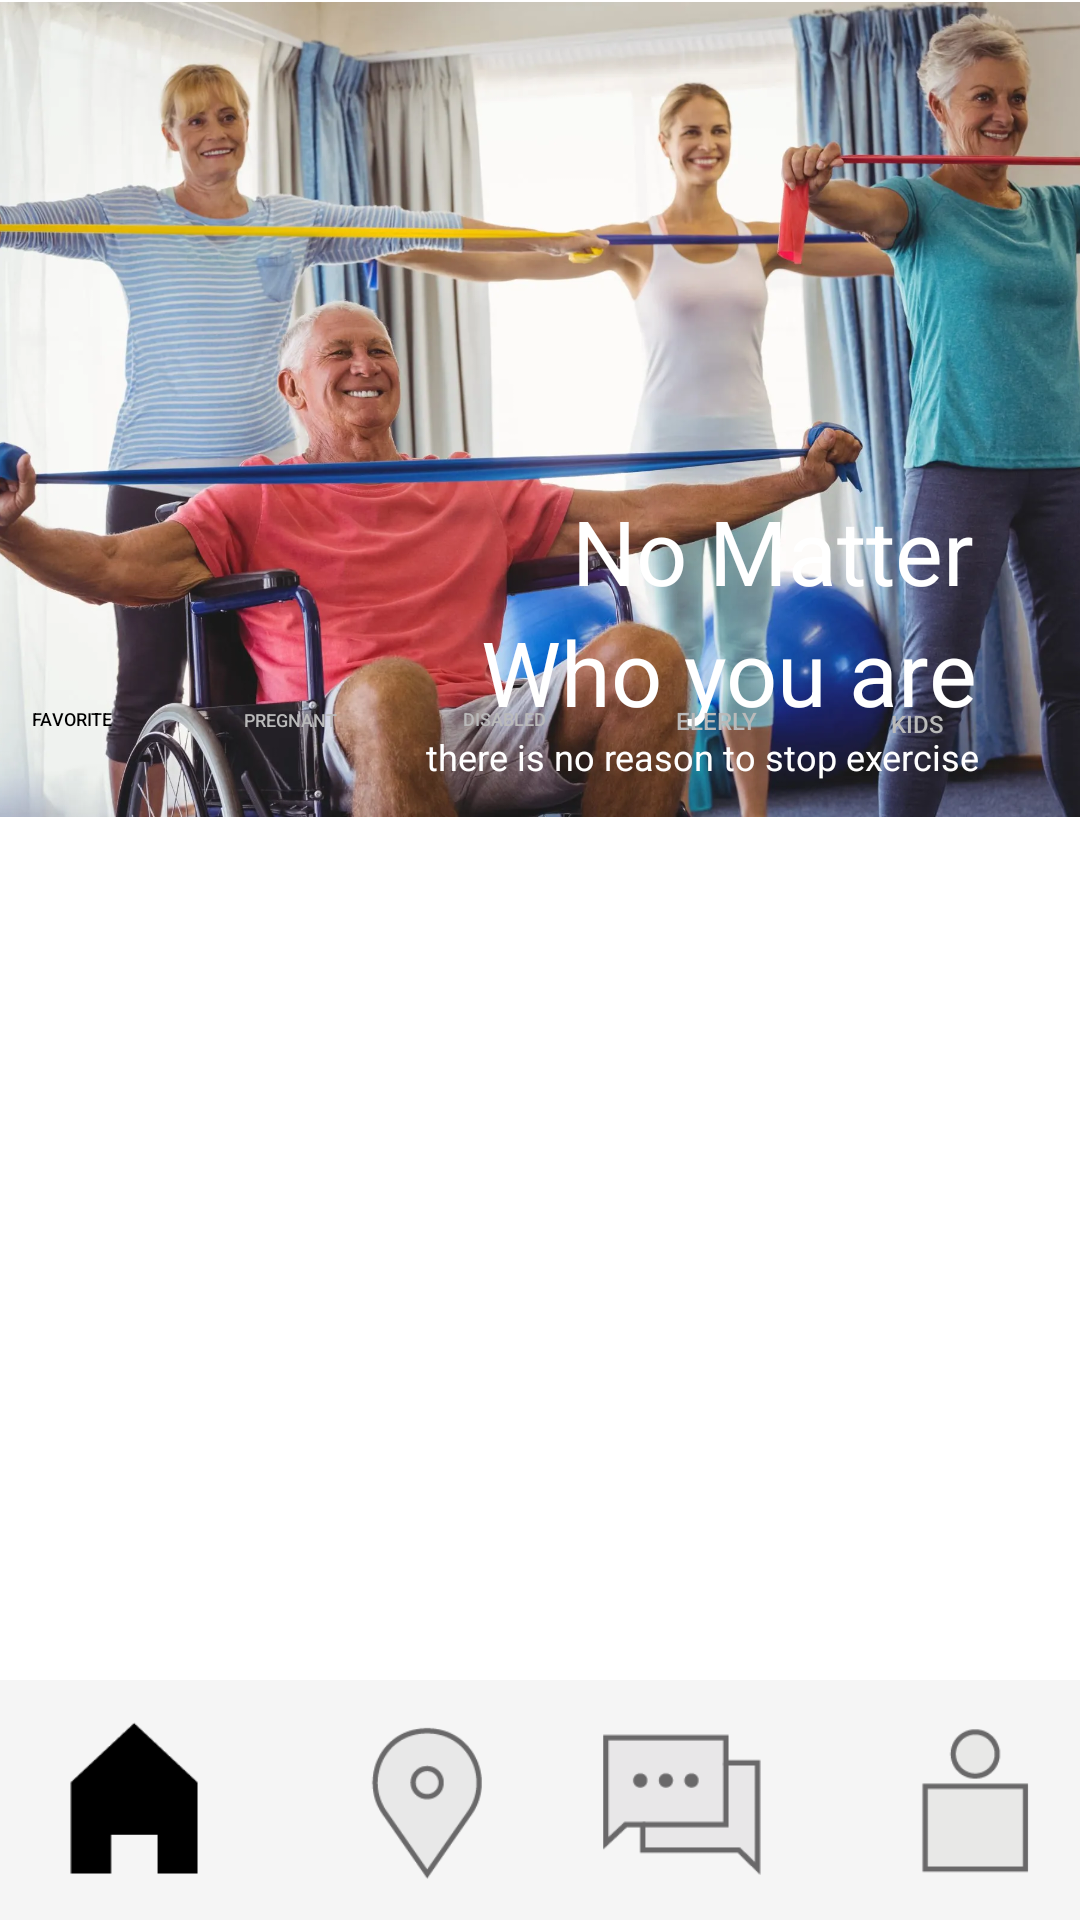

Where icons sit on this 1080×1920 app screen, as bbox(x1, y1, x2, y2):
homeblack: bbox(70, 1723, 198, 1874)
locationicon: bbox(372, 1728, 482, 1879)
personicon: bbox(922, 1729, 1029, 1873)
talkicon: bbox(603, 1734, 761, 1875)
